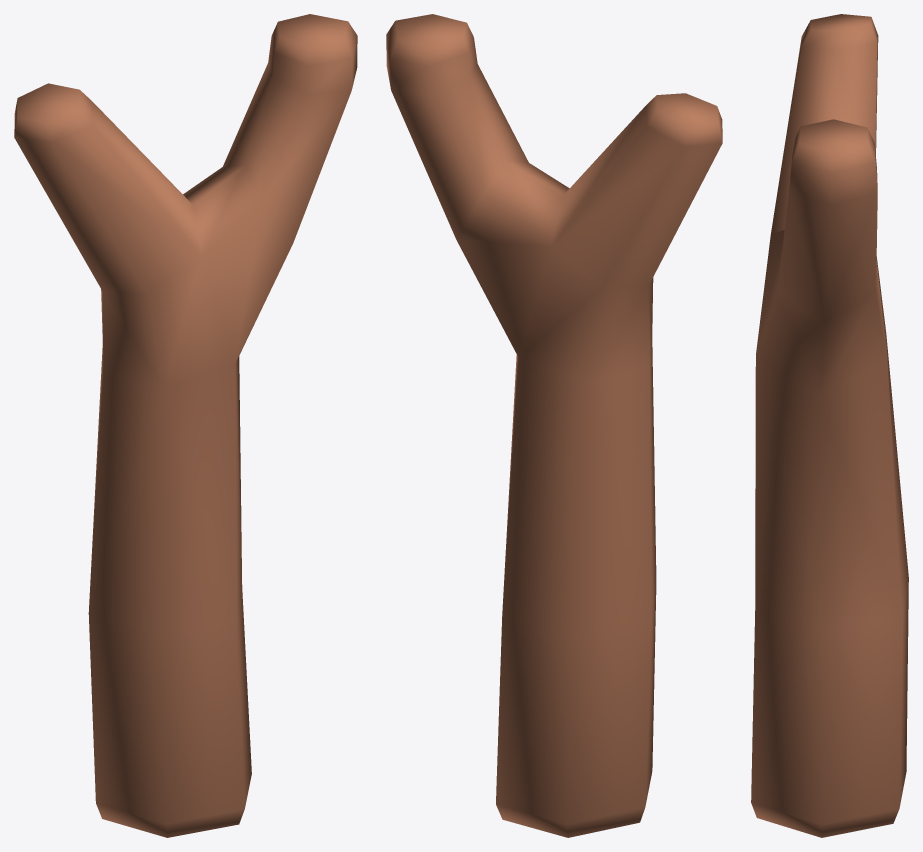
Rendered from Tree_Btm_C_01_LOD2.gltf.
The picture shows the model from 3 angles, left to right: view 1: azimuth 30°, elevation 25°; view 2: azimuth 150°, elevation 25°; view 3: azimuth 270°, elevation 25°; orthographic projection.
Visible parts, largest first — view 1: Tree_Btm_C_01_LOD2_Cylinder.094; view 2: Tree_Btm_C_01_LOD2_Cylinder.094; view 3: Tree_Btm_C_01_LOD2_Cylinder.094.
Part boxes in pixels (box(x1,y1,x2,y2)): Tree_Btm_C_01_LOD2_Cylinder.094: box(14, 14, 357, 837); Tree_Btm_C_01_LOD2_Cylinder.094: box(386, 14, 722, 837); Tree_Btm_C_01_LOD2_Cylinder.094: box(751, 14, 908, 837).
Bounding box in the file's own units: 2.17 × 4.6 × 0.8777.
1 material, 1 textured.
